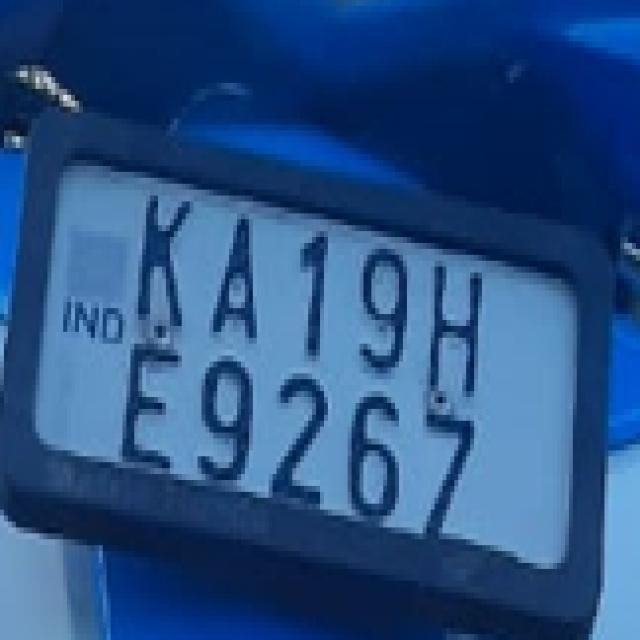1: (285, 218, 341, 364)
6: (339, 385, 413, 533)
7: (408, 401, 487, 544)
9: (186, 347, 259, 493), (355, 227, 418, 388)
A: (203, 192, 266, 350)
E: (111, 326, 190, 480)
H: (421, 242, 500, 406)
K: (131, 177, 202, 338)
